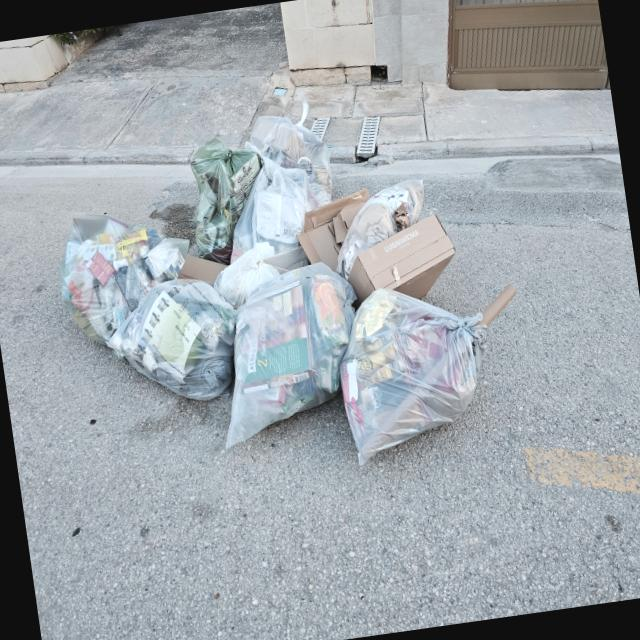grey_bag: (330, 273, 500, 467), (202, 259, 368, 450), (47, 198, 197, 354), (115, 272, 241, 412), (182, 132, 270, 258), (226, 156, 316, 252), (248, 106, 334, 204), (217, 250, 280, 298)
other_waste: (297, 173, 460, 284)
